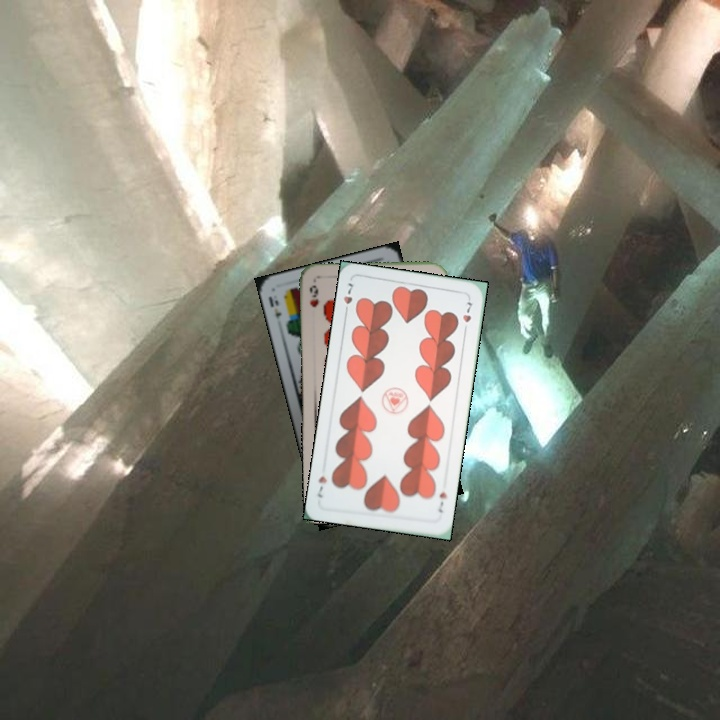EK: (264, 293, 284, 329)
H7: (339, 279, 356, 318), (434, 488, 449, 515)
H9: (306, 281, 321, 310)
